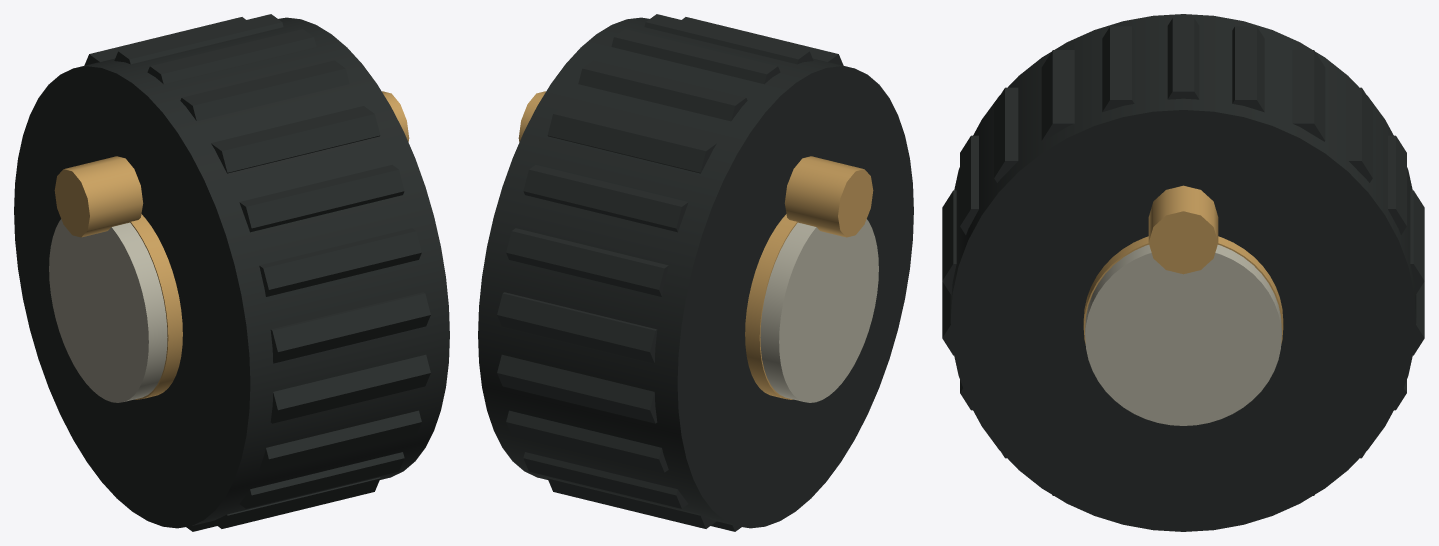
The model's file is Traveller.glb.
The picture shows the model from 3 angles, left to right: view 1: azimuth 30°, elevation 25°; view 2: azimuth 150°, elevation 25°; view 3: azimuth 270°, elevation 25°; orthographic projection.
Parts seen in each view (by area): view 1: Handwheel, Flute (×12), Hub, Winding stud, Hub cap; view 2: Handwheel, Flute (×12), Hub, Winding stud, Hub cap; view 3: Handwheel, Hub, Flute (×13), Winding stud, Hub cap.
Boxes of the visible parts, left/top/right/bottom form: Handwheel: left=14, top=17, right=449, bottom=528; Flute (×12): left=84, top=14, right=430, bottom=528; Hub: left=49, top=219, right=167, bottom=402; Winding stud: left=54, top=156, right=143, bottom=237; Hub cap: left=130, top=214, right=182, bottom=399; Handwheel: left=478, top=17, right=913, bottom=528; Flute (×12): left=497, top=14, right=843, bottom=528; Hub: left=760, top=219, right=878, bottom=402; Winding stud: left=784, top=156, right=873, bottom=237; Hub cap: left=745, top=214, right=797, bottom=399; Handwheel: left=950, top=14, right=1416, bottom=531; Hub: left=1085, top=245, right=1281, bottom=425; Flute (×13): left=942, top=18, right=1424, bottom=355; Winding stud: left=1148, top=185, right=1218, bottom=274; Hub cap: left=1083, top=236, right=1283, bottom=343.
Bounding box in the file's own units: 0.48 × 0.6359 × 0.6378.
